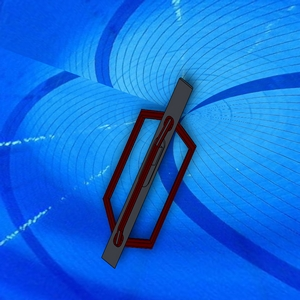submarine: (90, 71, 207, 272)
